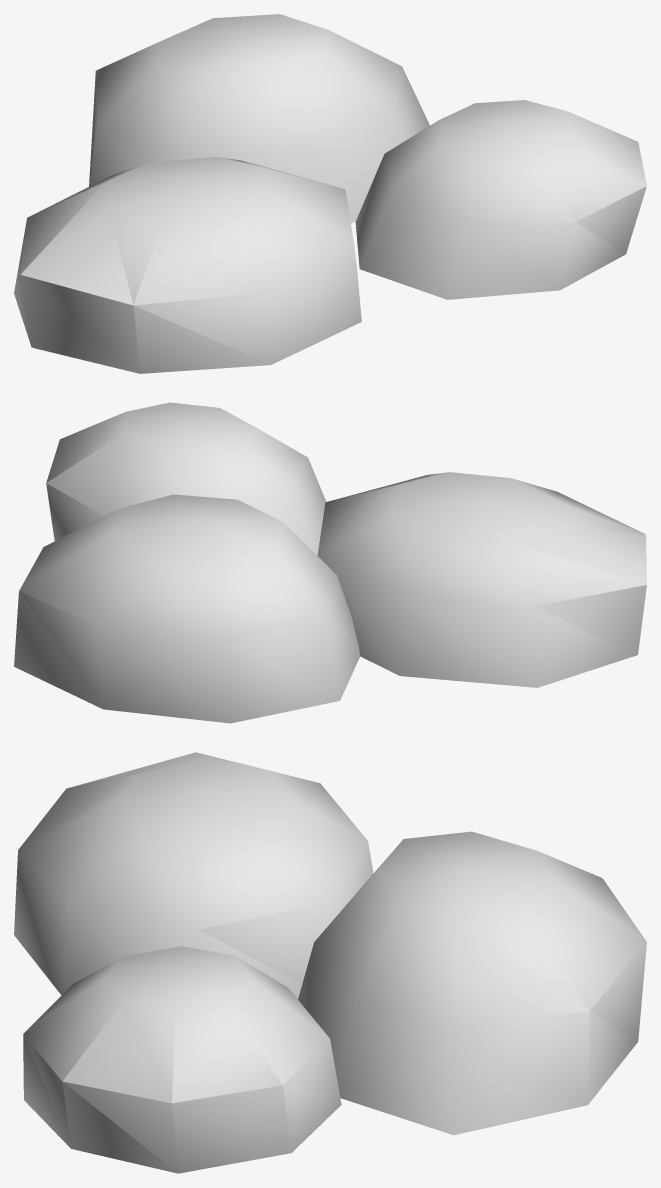
File: item_rm_gold_b.obj
3 renders of one model, top to bottom at view 1: azimuth 30°, elevation 25°; view 2: azimuth 150°, elevation 25°; view 3: azimuth 270°, elevation 25°, orthographic. The views are drawn at different scales.
Visible parts, largest first — view 1: part_000_gold, part_028_gold, part_056_gold; view 2: part_056_gold, part_000_gold, part_028_gold; view 3: part_056_gold, part_000_gold, part_028_gold.
Part boxes in pixels (x1,y1,x2,y2): part_000_gold: (14, 157, 361, 373); part_028_gold: (355, 100, 646, 299); part_056_gold: (89, 14, 429, 223); part_056_gold: (14, 494, 360, 723); part_000_gold: (317, 472, 646, 687); part_028_gold: (46, 402, 326, 555); part_056_gold: (298, 831, 646, 1135); part_000_gold: (14, 752, 373, 998); part_028_gold: (23, 946, 341, 1173).
Size of the model in its own units: 0.8466 by 0.189 by 0.662.
